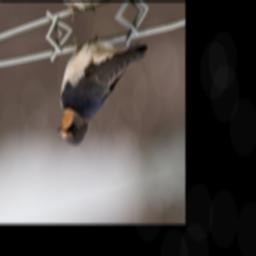Swallow: (48, 17, 156, 153)
